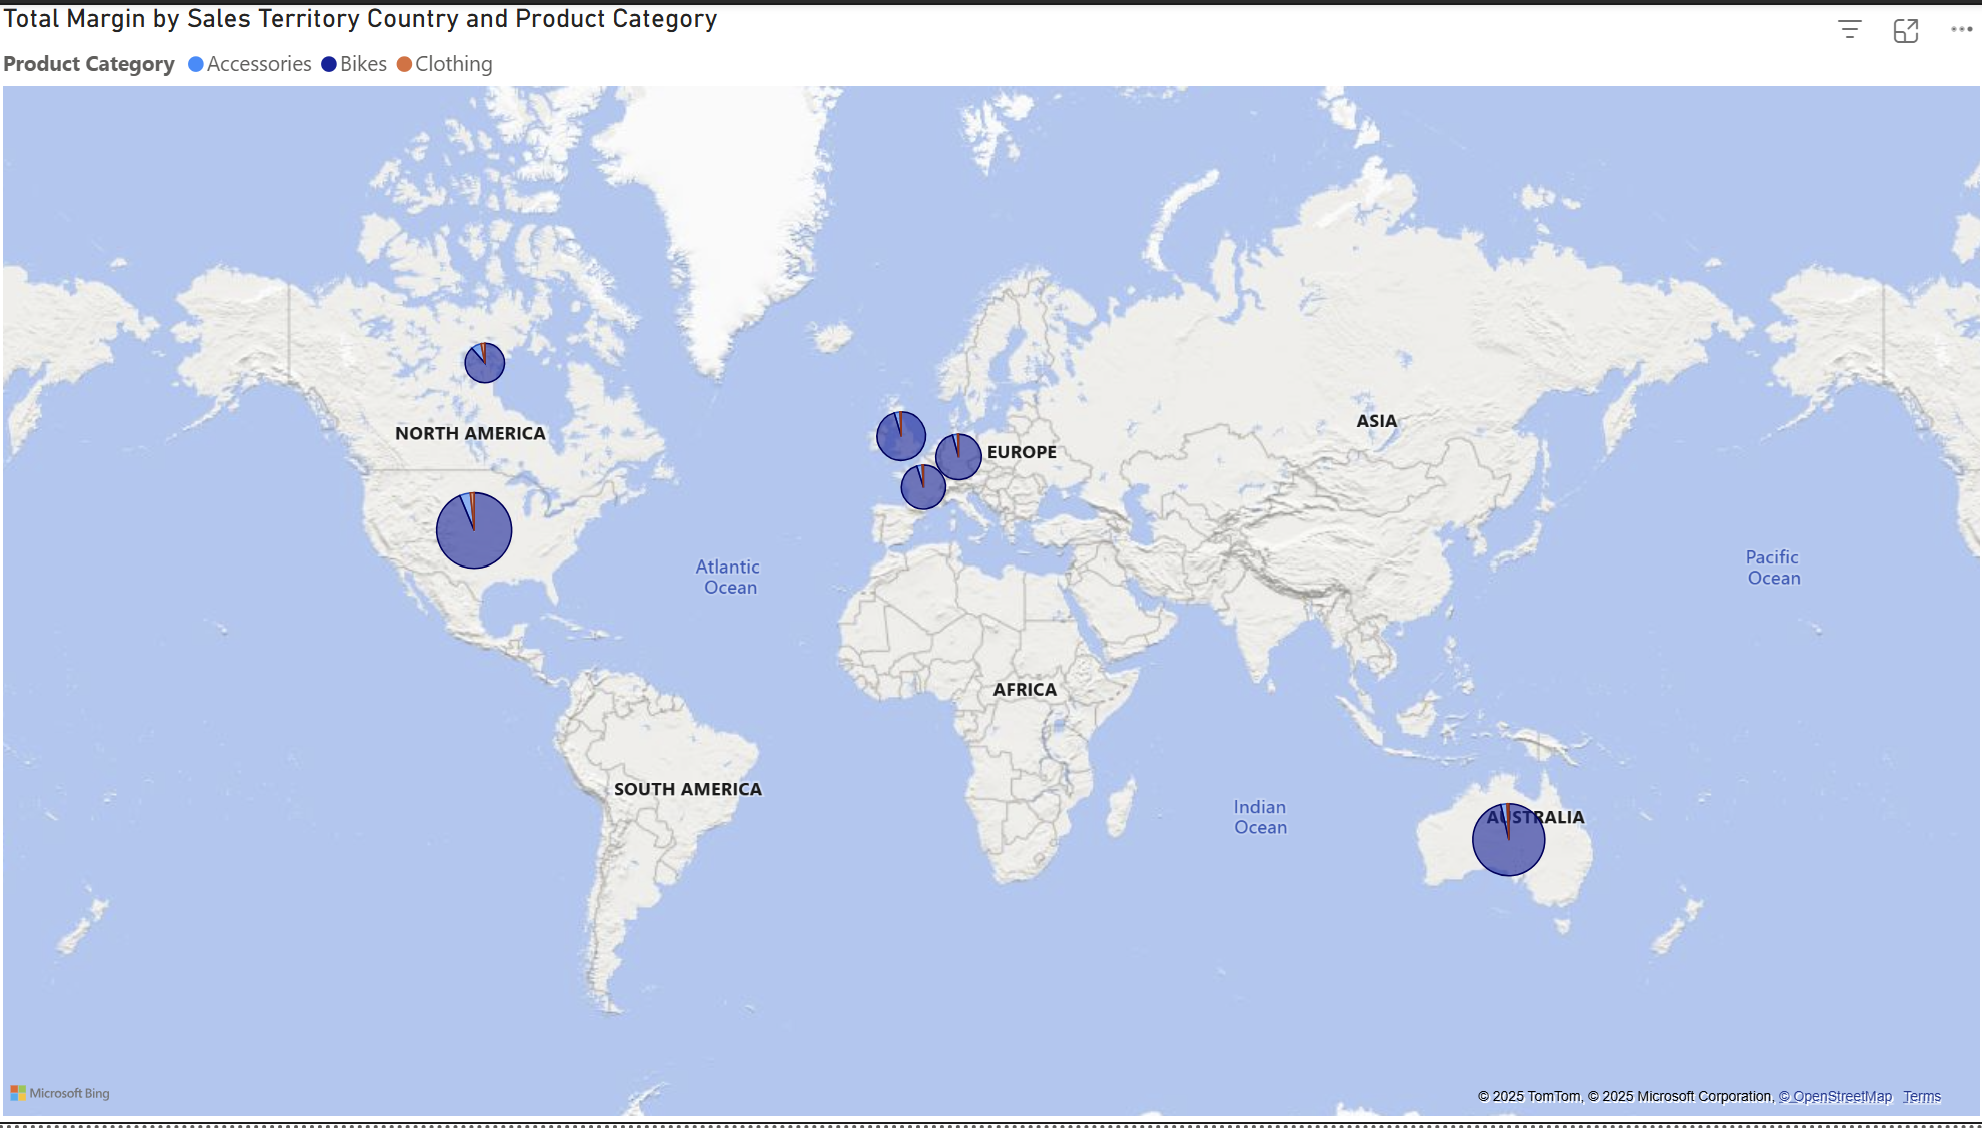

The page's visual inventory and layout, read from the dashboard file:
{"tool":"powerbi","page":{"name":"Sales Map","canvas":[1280,720],"ordinal":4},"visuals":[{"type":"map","fields":{"Category":["Sales Territory.Sales Territory Country"],"Series":["Product.Product Hierarchy.Product Category"],"Size":["Sales.Total Margin"]},"box":[0,0,1280,719.7],"z":0}]}

Visuals, with their boxes on the page's 1280x720 design canvas (x1, y1, x2, y2). These are canvas units, not pixel positions in the 1982x1128 screenshot, which may show the page scaled, cropped or inside an application window:
map - Sales Territory.Sales Territory Country x Product.Product Hierarchy.Product Category: rect(0, 0, 1280, 720)
